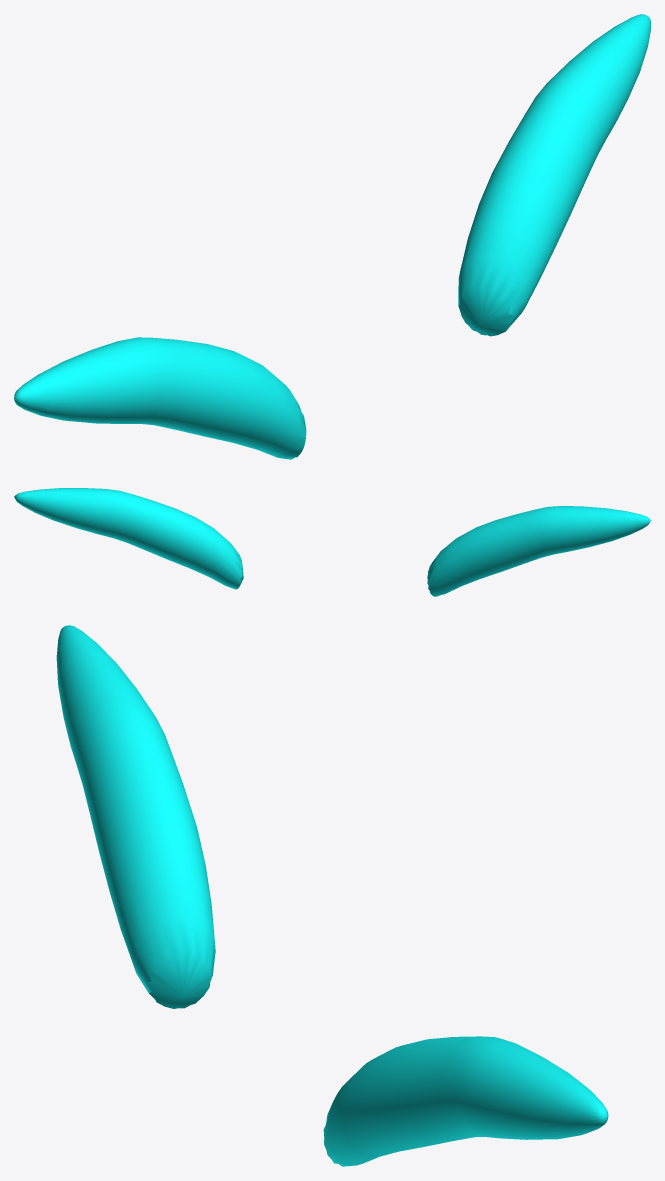
3 views of the same model, one above another, from view 1: azimuth 30°, elevation 25°; view 2: azimuth 150°, elevation 25°; view 3: azimuth 270°, elevation 25° (orthographic). The views are drawn at different scales.
Parts seen in each view (by area): view 1: eye_brows_001; view 2: eye_brows_001; view 3: eye_brows_001.
Boxes of the visible parts, x1,y1,x2,y2 form: eye_brows_001: [14, 14, 650, 459]; eye_brows_001: [14, 488, 650, 596]; eye_brows_001: [56, 625, 608, 1166].
Bounding box in the file's own units: 43.69 × 20.8 × 8.83.
